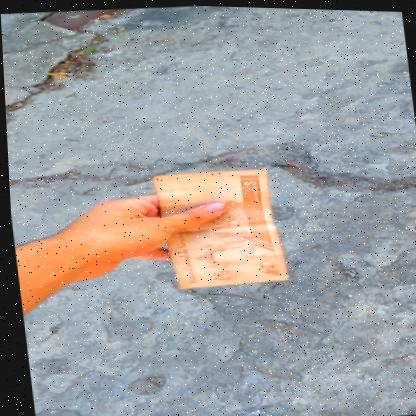five-back-vef: (148, 164, 285, 291)
